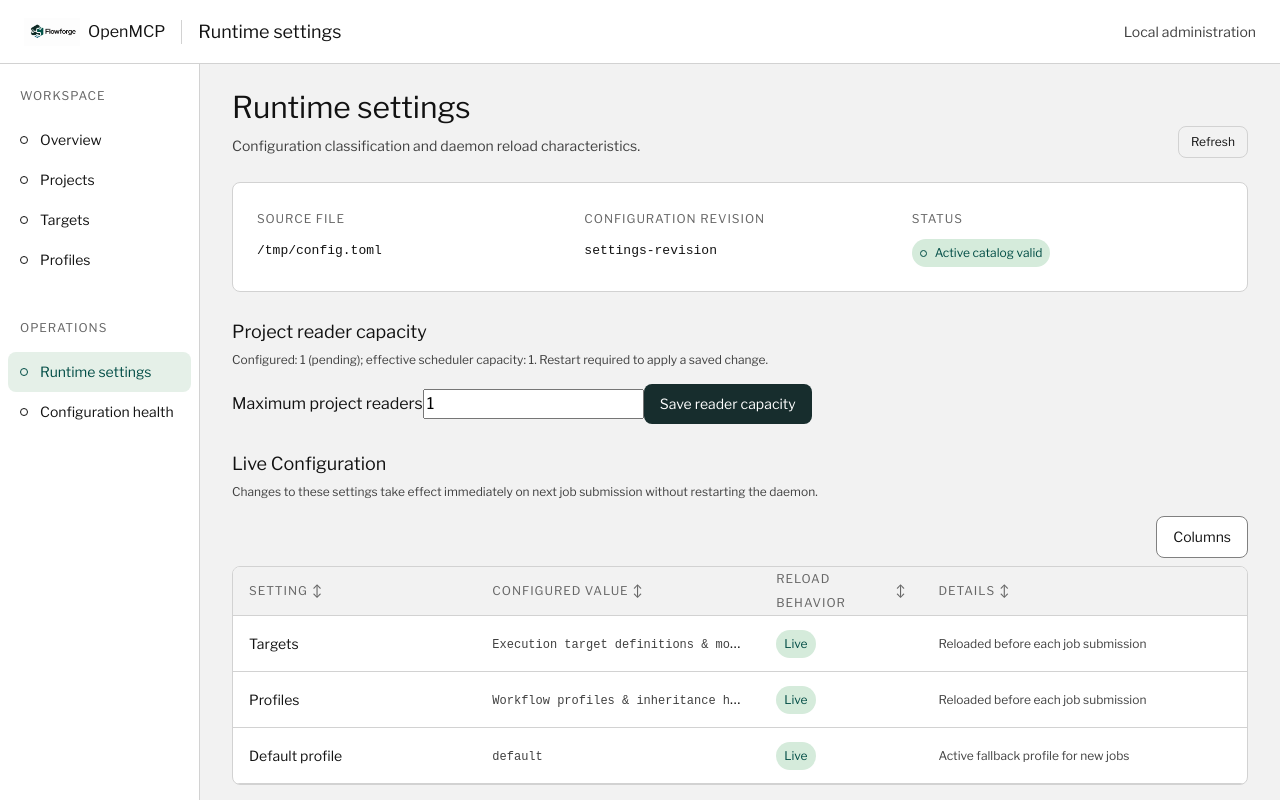
Test: runtime settings reader capacity form › submits a strict numeric reader count with the current revision and reports restart-required save
Replace the text in the number field labelled "Maximum project readers" with "4.5" at (533, 404), box [423,389,644,419]
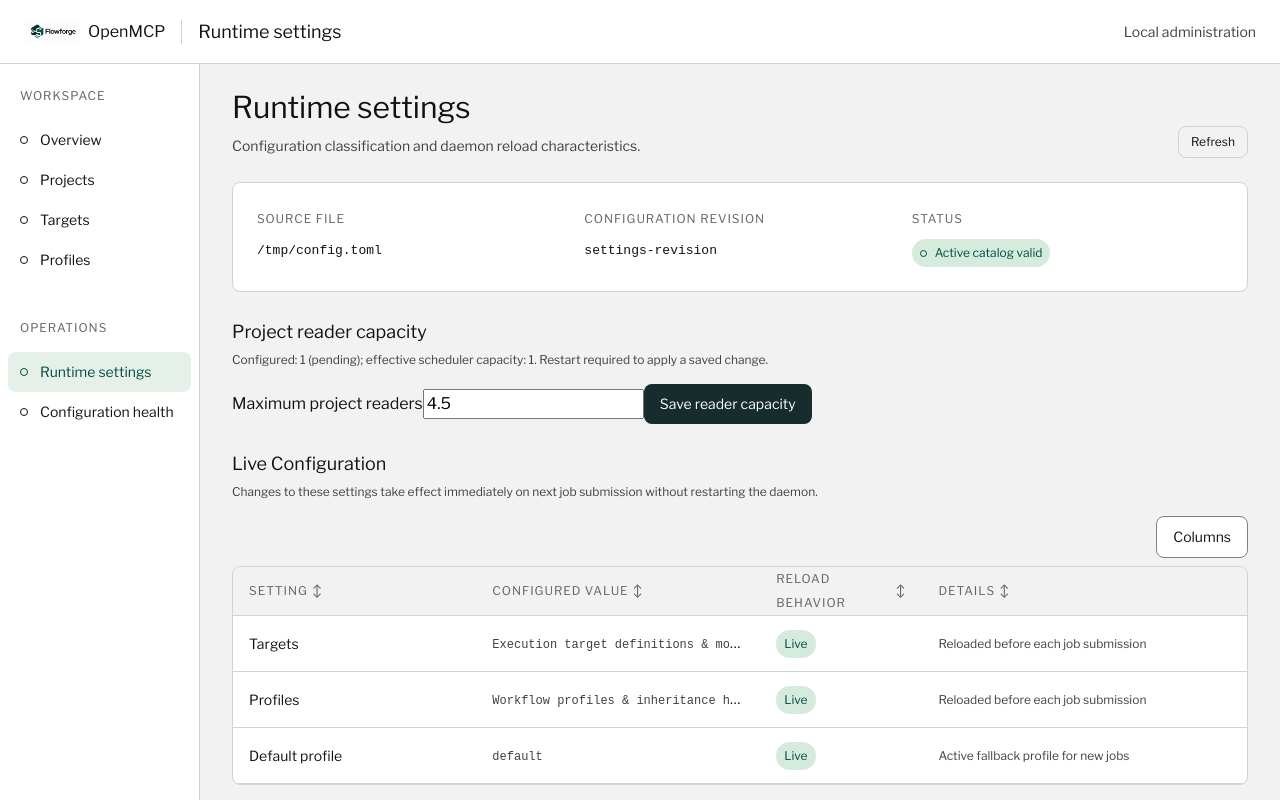
Submit the form labelled "Maximum project readers Save reader capacity", box [232,384,812,424]
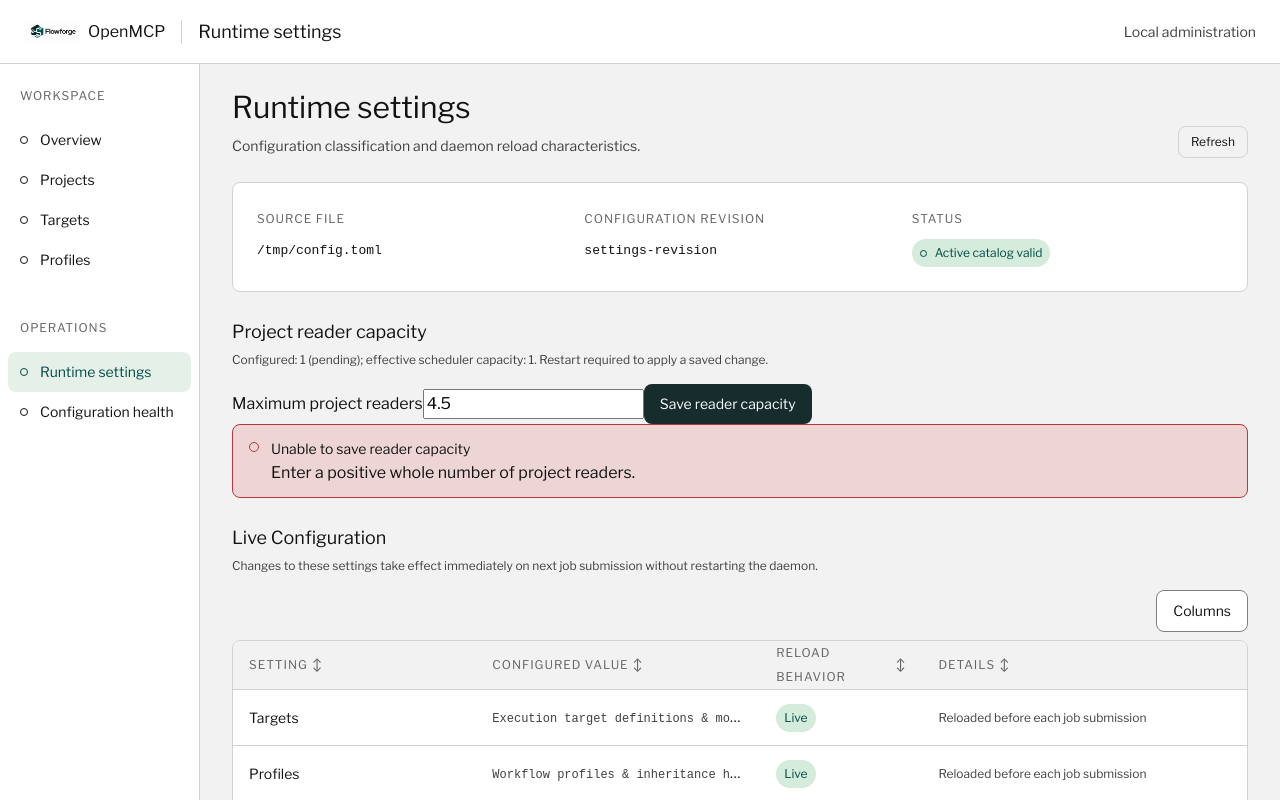
Result: the text "Enter a positive whole number of project readers." is shown at [271,461,635,485]
Replace the text in the number field labelled "Maximum project readers" with "4" at (533, 404), box [423,389,644,419]
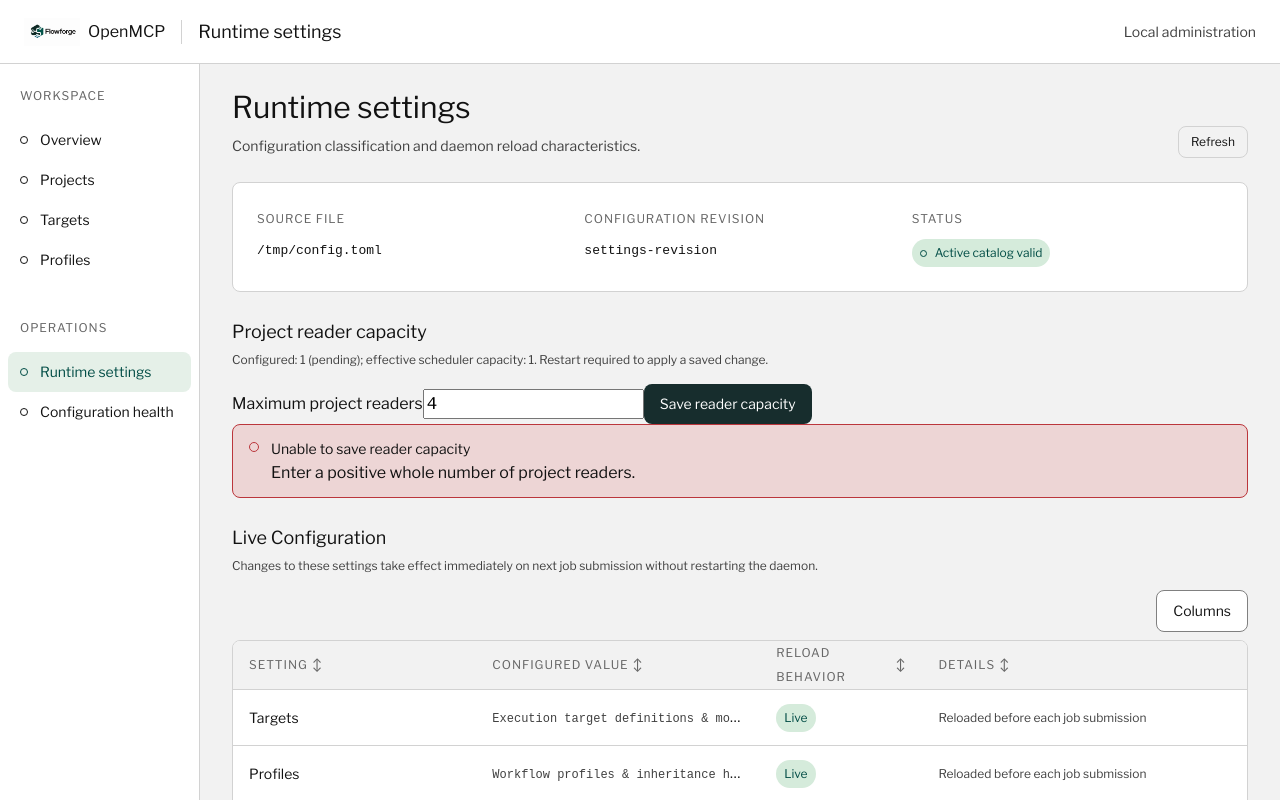
Click the button "Save reader capacity" at (728, 404), box [644,384,812,424]
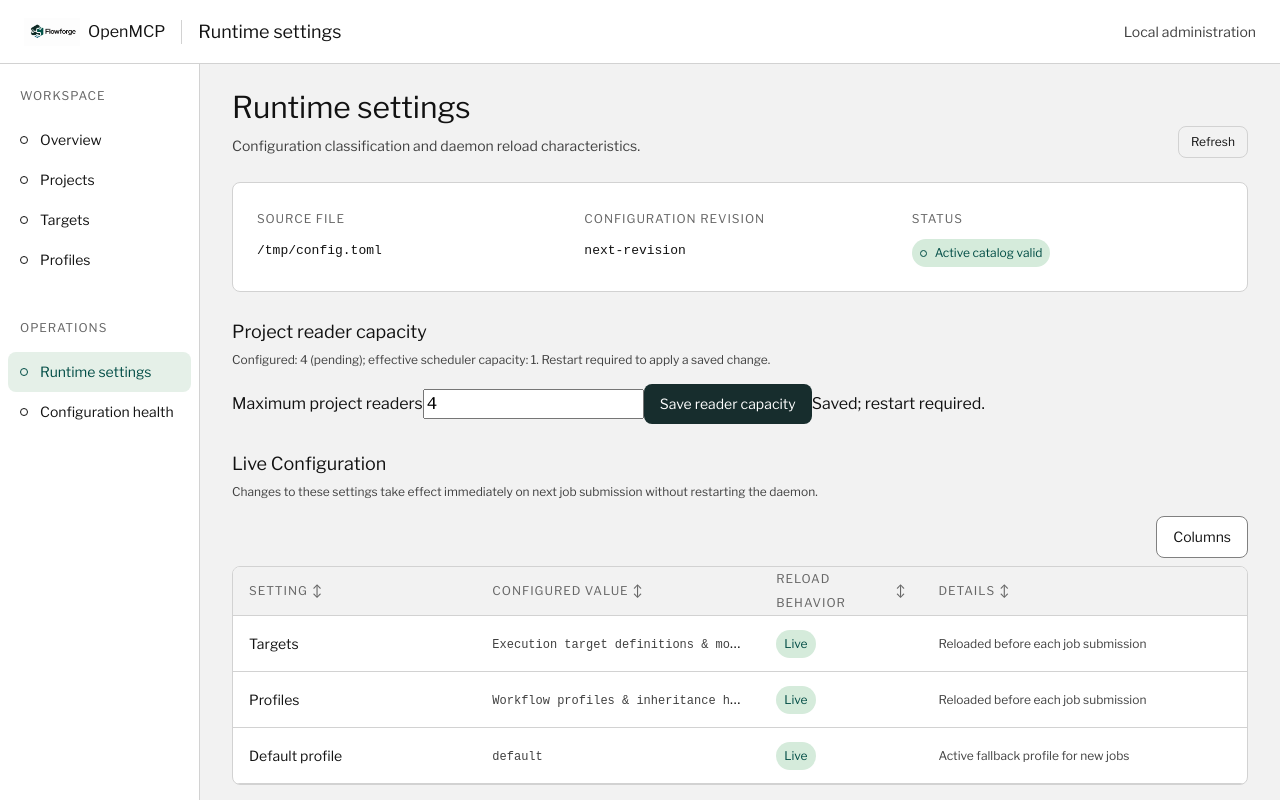
Result: the text "Saved; restart required." is shown at [812,394,985,413]
